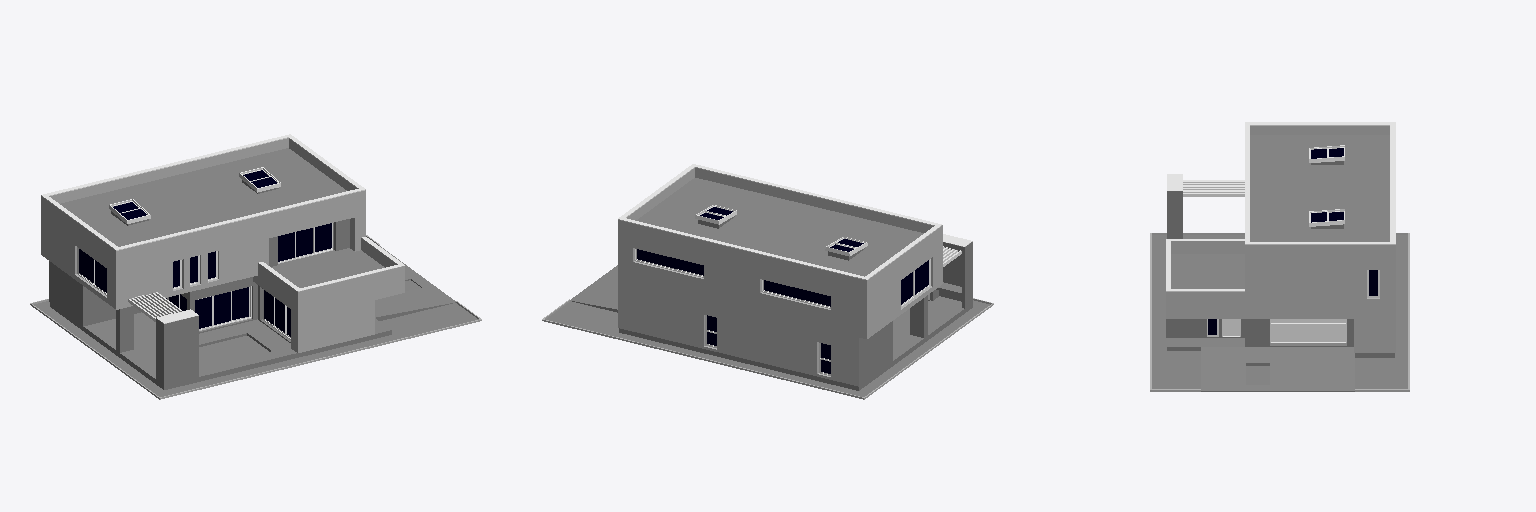
The picture shows the model from 3 angles: view 1: azimuth 30°, elevation 25°; view 2: azimuth 150°, elevation 25°; view 3: azimuth 270°, elevation 25°; orthographic projection.
Visible parts, largest first — view 1: MH03_OBJ01, MH03_OBJ03, MH03_OBJ02, MH03_OBJ04; view 2: MH03_OBJ01, MH03_OBJ03, MH03_OBJ02, MH03_OBJ04; view 3: MH03_OBJ01, MH03_OBJ03, MH03_OBJ02, MH03_OBJ04.
Boxes of the visible parts, box(x1,y1,x2,y2) form: MH03_OBJ01: box(41, 134, 404, 384); MH03_OBJ03: box(30, 235, 481, 399); MH03_OBJ02: box(77, 223, 333, 339); MH03_OBJ04: box(109, 167, 280, 225); MH03_OBJ01: box(618, 164, 972, 390); MH03_OBJ03: box(542, 265, 993, 399); MH03_OBJ02: box(635, 249, 930, 375); MH03_OBJ04: box(695, 205, 867, 260); MH03_OBJ01: box(1166, 122, 1395, 357); MH03_OBJ03: box(1150, 233, 1409, 391); MH03_OBJ02: box(1207, 270, 1379, 342); MH03_OBJ04: box(1309, 145, 1344, 228).
Size of the model in its own units: 825 by 278 by 574.
Materials: 10 (1 with a texture image).